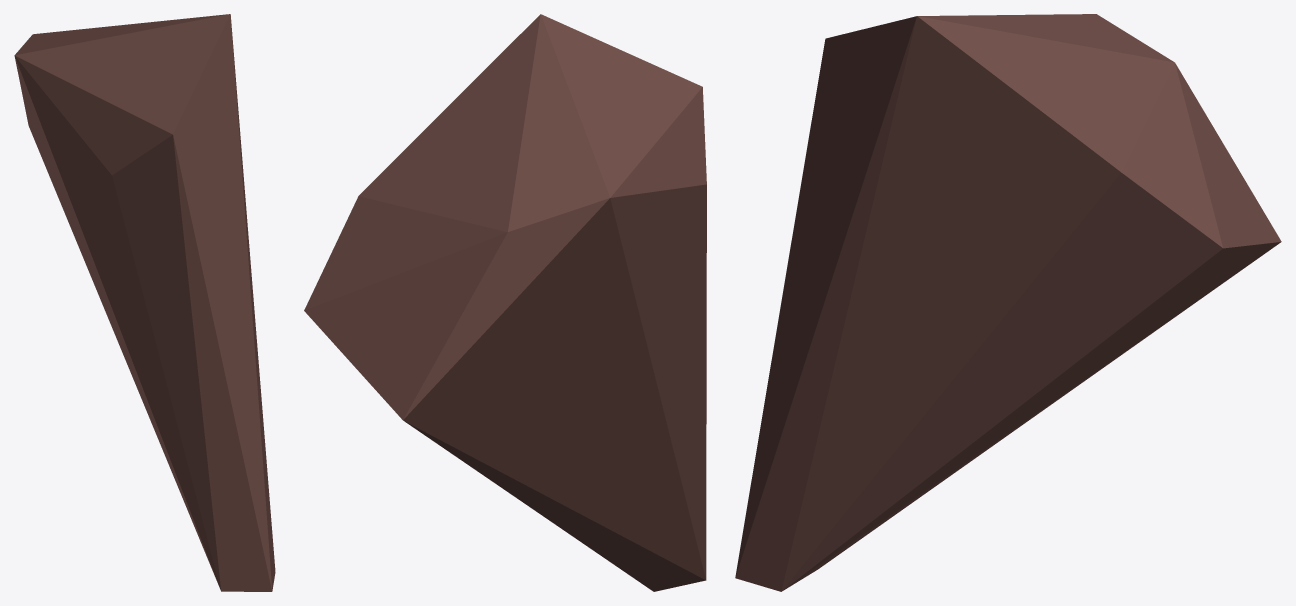
File: Willow_Dead_2.lod4.glb
3 views of the same model, side by side, from view 1: azimuth 30°, elevation 25°; view 2: azimuth 150°, elevation 25°; view 3: azimuth 270°, elevation 25° (orthographic). The views are drawn at different scales.
Parts seen in each view (by area): view 1: Willow_Dead_2; view 2: Willow_Dead_2; view 3: Willow_Dead_2.
Part boxes in pixels (x1,y1,x2,y2): Willow_Dead_2: (14,14,275,591); Willow_Dead_2: (304,14,706,591); Willow_Dead_2: (735,14,1281,591).
Size of the model in its own units: 1.19 by 2.83 by 2.4.
